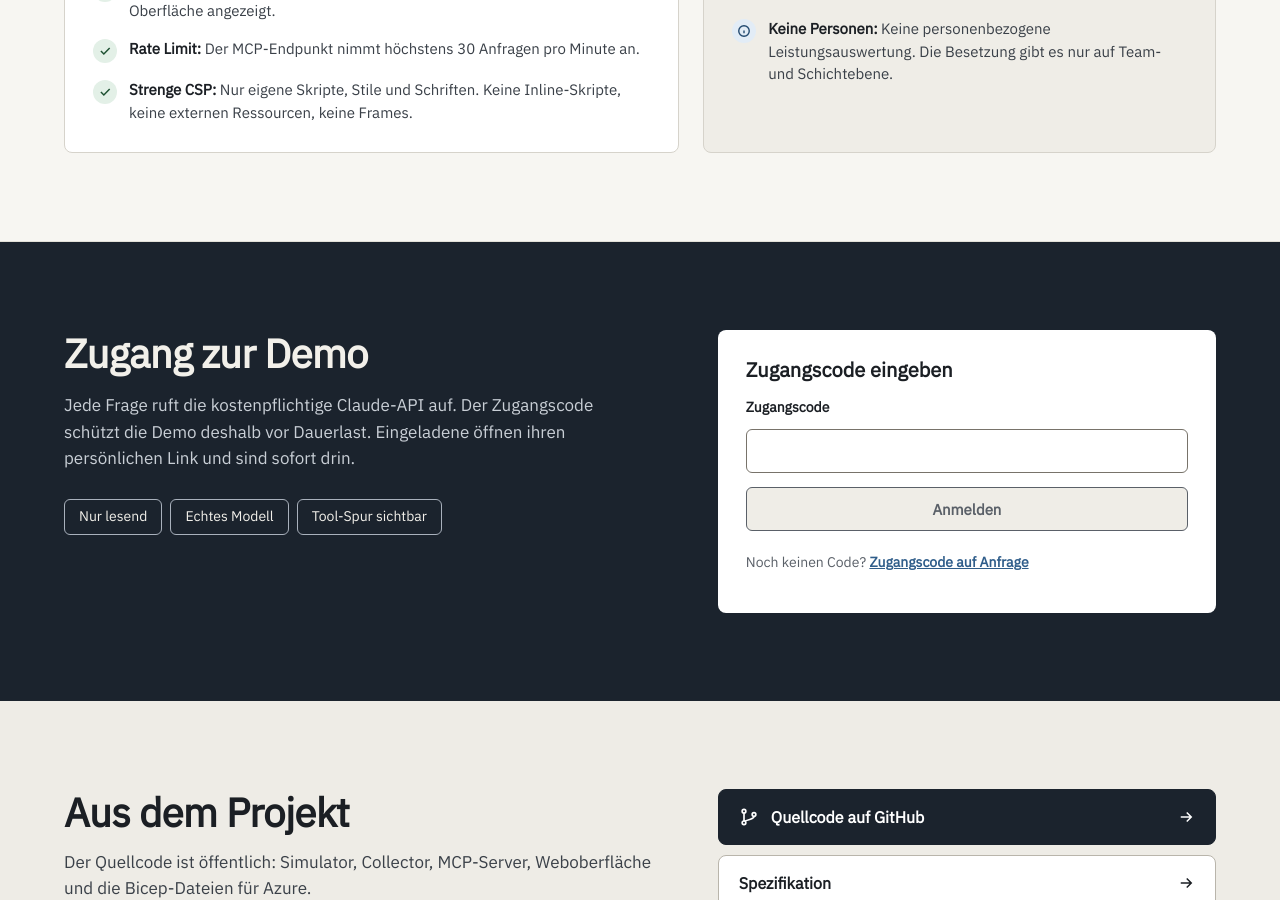
Erklärseite ohne Sitzung › meldet mit dem Code aus dem Zugangsbereich an und zeigt danach die Anwendung
(page scrolled)
In the password field with id "access-code": (967, 451) [746, 429, 1188, 473], type "richtig"
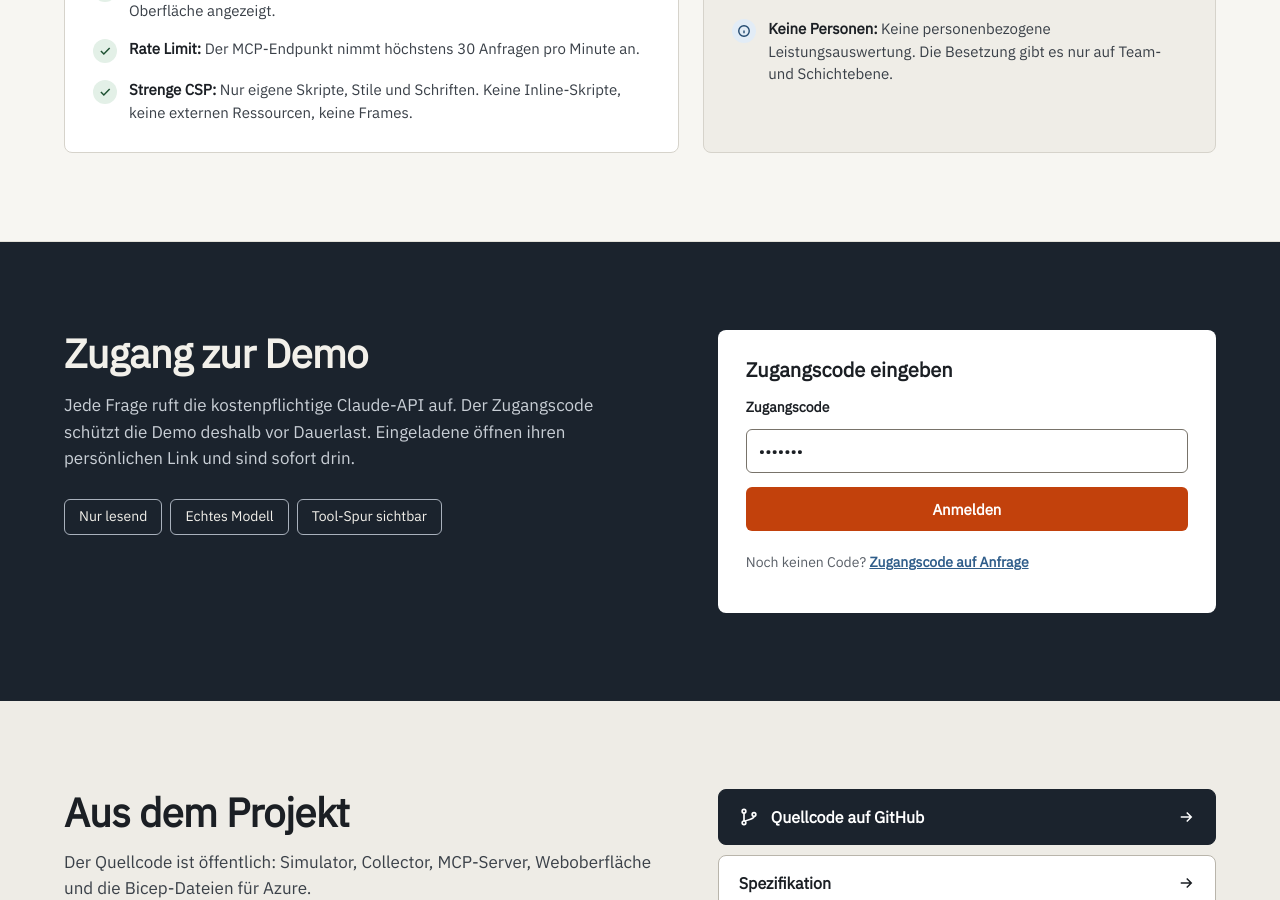
Submit the form with class "access-form", box [746, 358, 1188, 585]
(page scrolled)
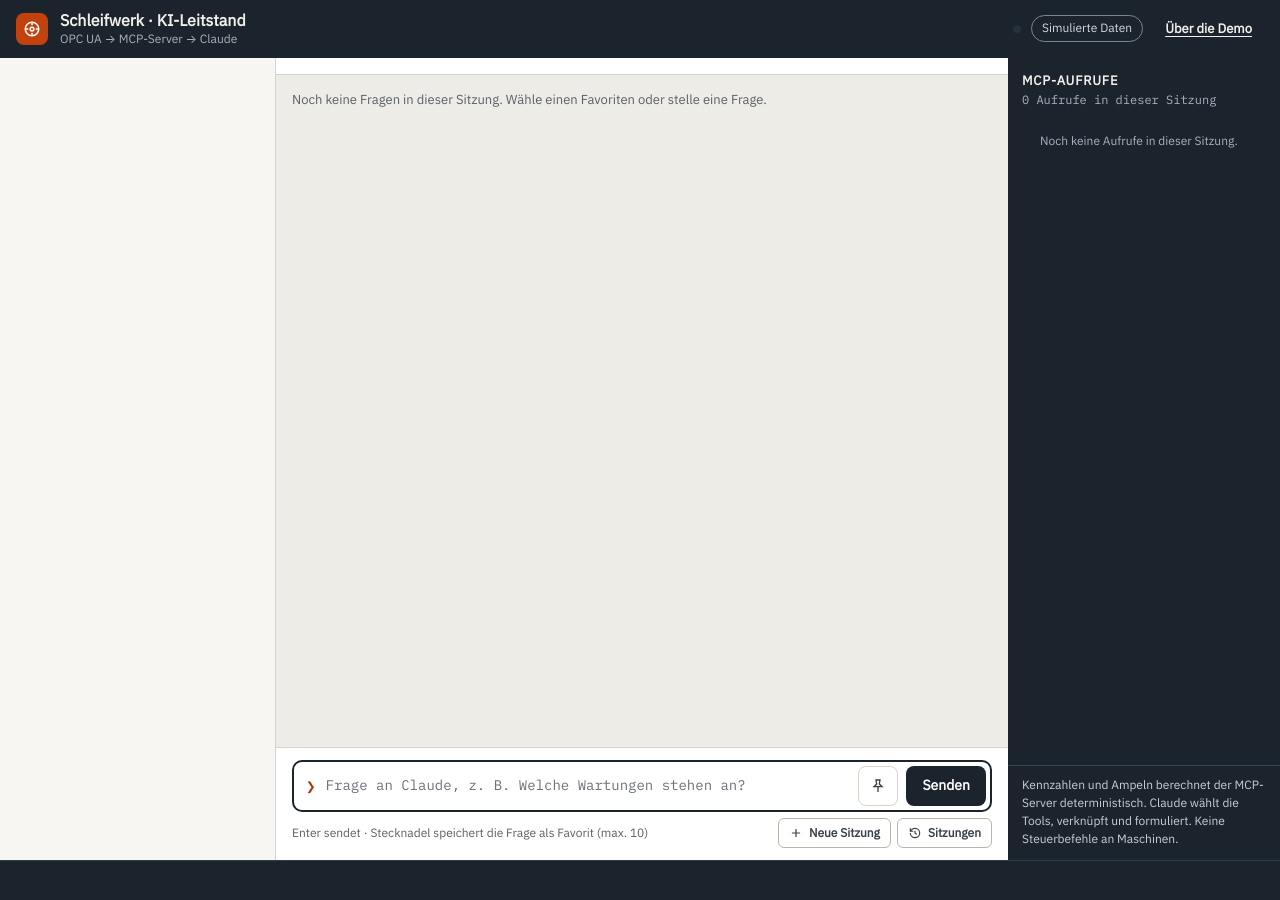
Now the element with id "app-root" is shown
